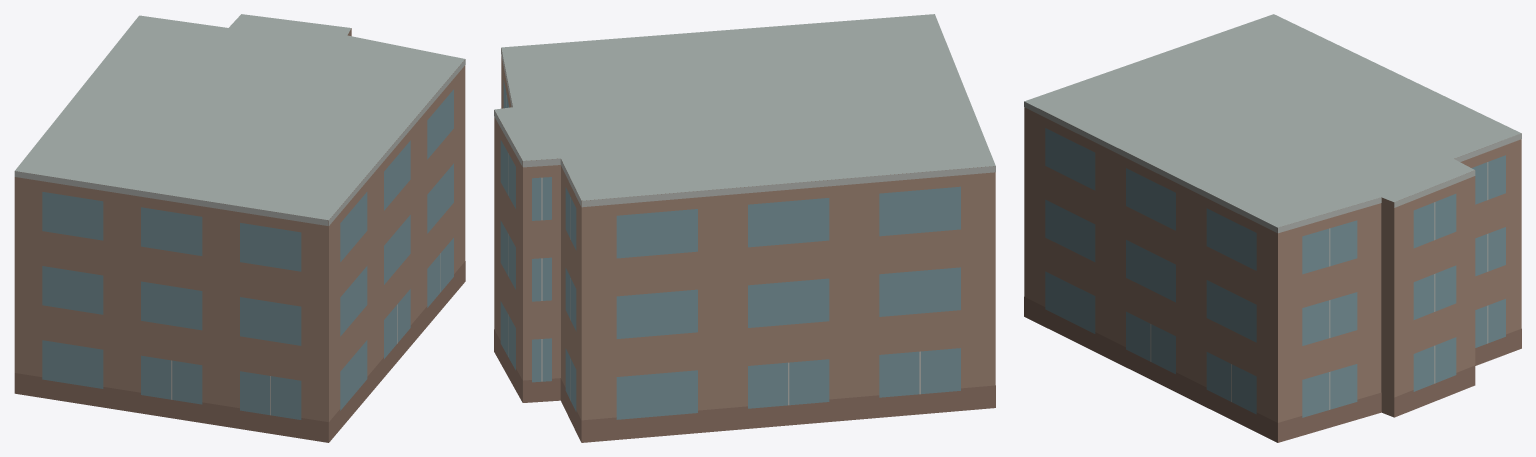
Rendered from survey-upis-32506552.glb.
3 views of the same model, side by side, from view 1: azimuth 30°, elevation 25°; view 2: azimuth 150°, elevation 25°; view 3: azimuth 270°, elevation 25° (orthographic). The views are drawn at different scales.
Parts seen in each view (by area): view 1: survey-upis-32506552.tmp; view 2: survey-upis-32506552.tmp; view 3: survey-upis-32506552.tmp.
Boxes of the visible parts, x1,y1,x2,y2 form: survey-upis-32506552.tmp: (14, 14, 465, 442); survey-upis-32506552.tmp: (494, 14, 995, 442); survey-upis-32506552.tmp: (1024, 14, 1521, 442).
Bounding box in the file's own units: 19.49 × 9.15 × 19.18.
